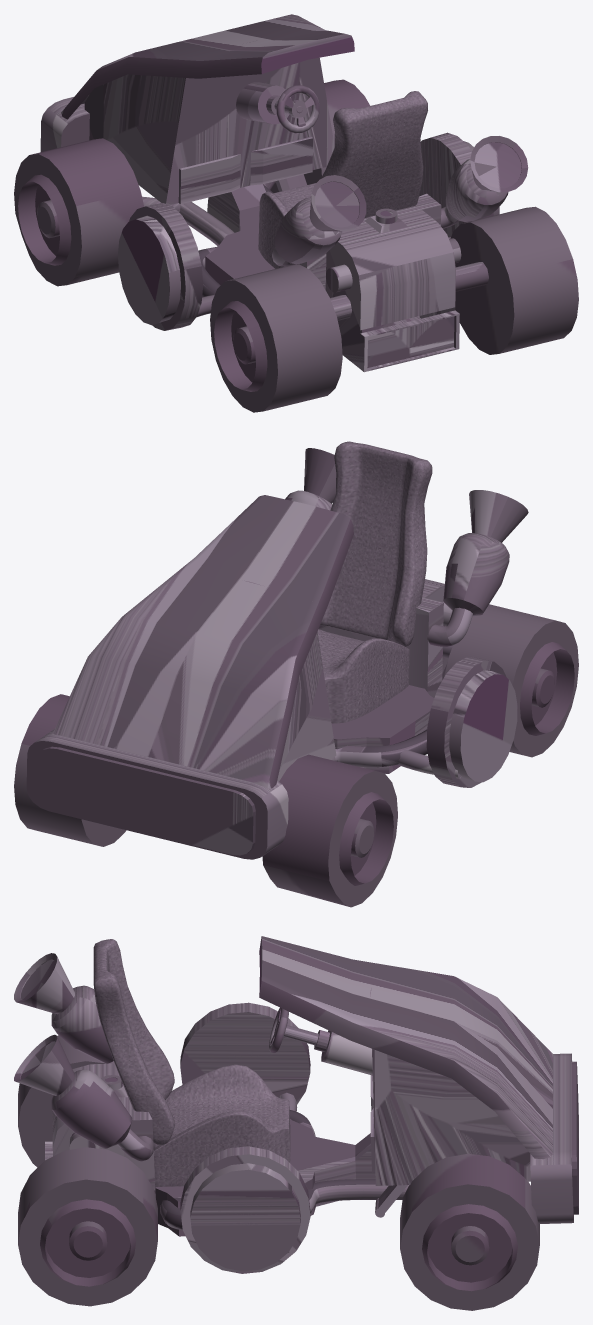
The model's file is Mkartivontsvetomirova(kart).fbx.
3 renders of one model, top to bottom at view 1: azimuth 30°, elevation 25°; view 2: azimuth 150°, elevation 25°; view 3: azimuth 270°, elevation 25°, orthographic. The views are drawn at different scales.
Visible parts, largest first — view 1: Coche2, Coche1; view 2: Coche2, Coche1; view 3: Coche2, Coche1.
Boxes of the visible parts, box(x1,y1,x2,y2) form: Coche2: box(40, 14, 528, 372); Coche1: box(14, 79, 578, 412); Coche2: box(26, 441, 528, 859); Coche1: box(14, 604, 578, 907); Coche2: box(14, 936, 578, 1273); Coche1: box(18, 1035, 539, 1310).
Size of the model in its own units: 155 by 121 by 220.
